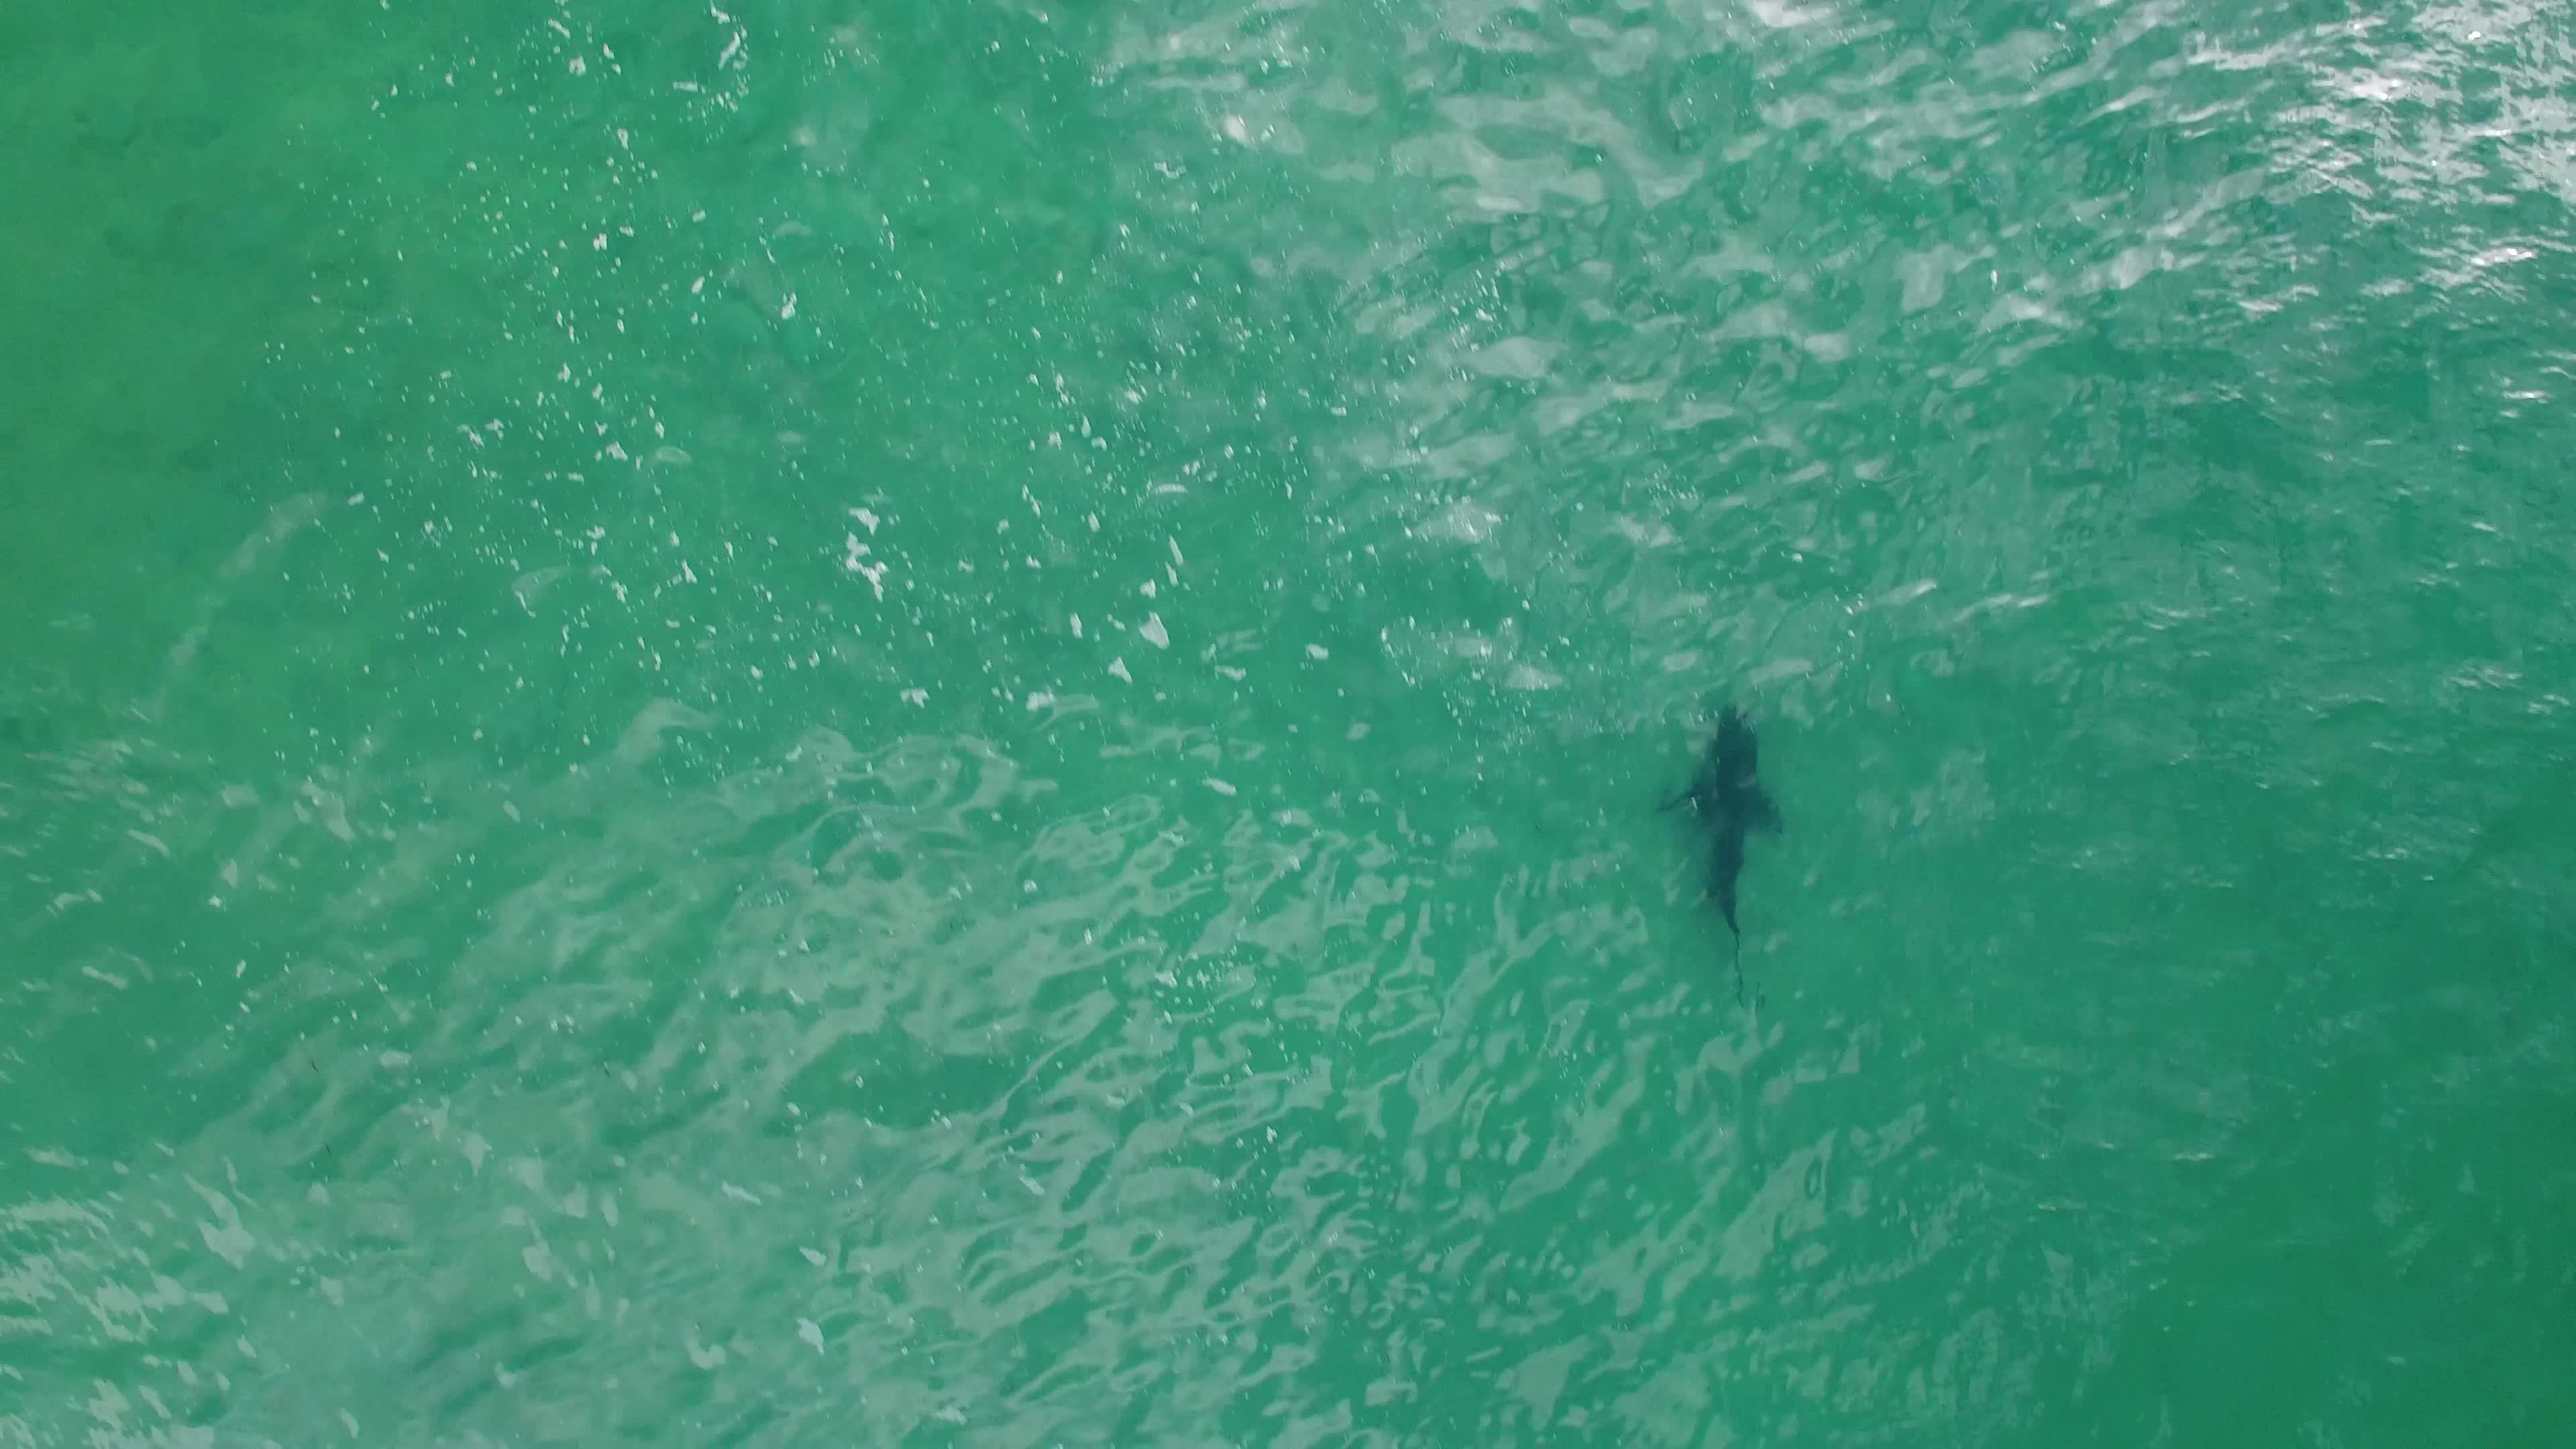shark: (1649, 692, 1794, 952)
